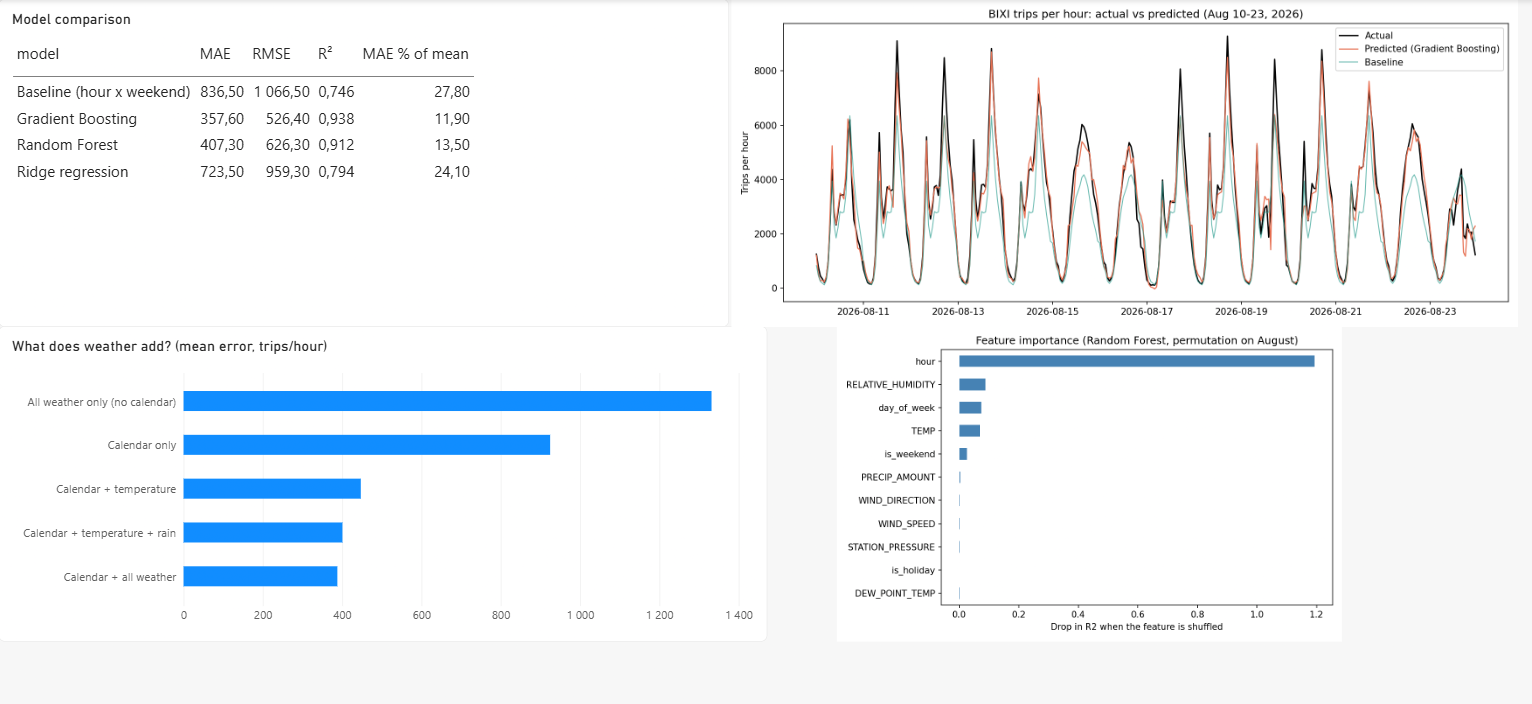

Layout of this report page (visuals, bound fields, positions):
{"tool":"powerbi","page":{"name":"Model","canvas":[1920,1080],"ordinal":2},"visuals":[{"type":"tableEx","title":"Model comparison","fields":{"Values":["bixi model_results.model","Sum(bixi model_results.mae)","Sum(bixi model_results.rmse)","Sum(bixi model_results.r2)","Sum(bixi model_results.mae_pct_of_mean)"]},"box":[10,0,902.5,405],"z":0},{"type":"clusteredBarChart","title":"What does weather add? (mean error, trips/hour)","fields":{"Category":["bixi ablation_results.feature_set"],"Y":["Sum(bixi ablation_results.mae_mean)"]},"box":[10,405,950,390],"z":1},{"type":"image","box":[882.5,0,1037.5,405],"z":2},{"type":"image","box":[792.5,405,1127.5,390],"z":3}]}

Visuals, with their boxes on the page's 1920x1080 design canvas (x1, y1, x2, y2). These are canvas units, not pixel positions in the 1532x704 screenshot, which may show the page scaled, cropped or inside an application window:
"Model comparison" tableEx: crop(10, 0, 912, 405)
"What does weather add? (mean error, trips/hour)" clusteredBarChart: crop(10, 405, 960, 795)
image: crop(882, 0, 1920, 405)
image: crop(792, 405, 1920, 795)
